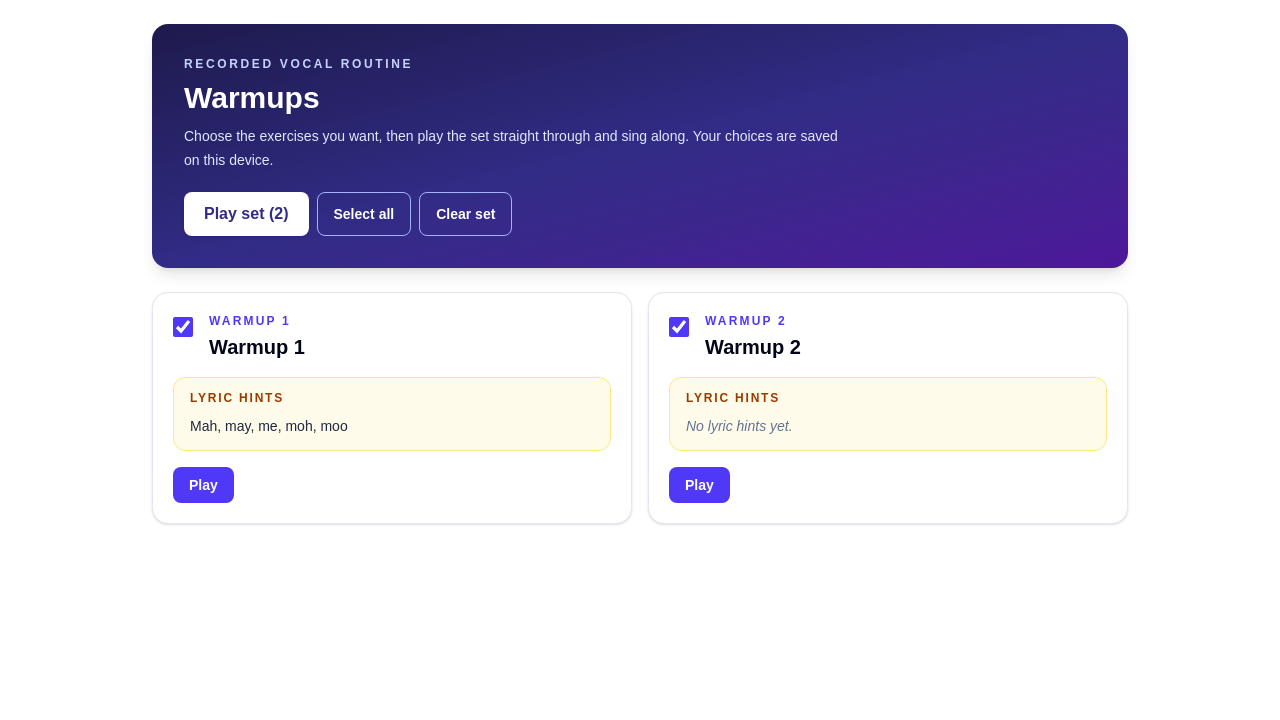
recorded warmup browser › starts the selected set with the first enabled recording
The width and height of the screenshot is (1280, 720).
What coordinates should you click on to do the following:
click the button "Play set (2)"
I would click on:
 (246, 214)
Its box is x1=184 y1=192 x2=308 y2=236.
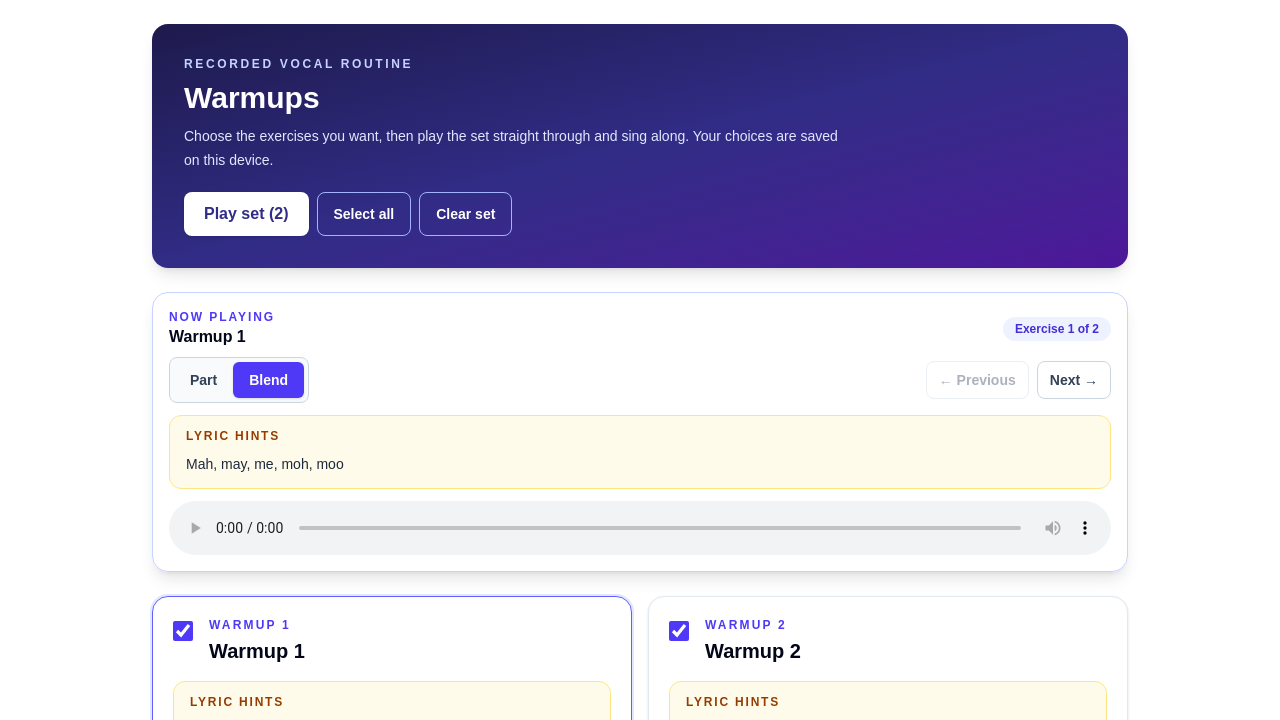
expect the text "Now playing" is shown: met, box x1=169 y1=309 x2=275 y2=325
expect the text "Exercise 1 of 2" is shown: met, box x1=1003 y1=317 x2=1111 y2=341
